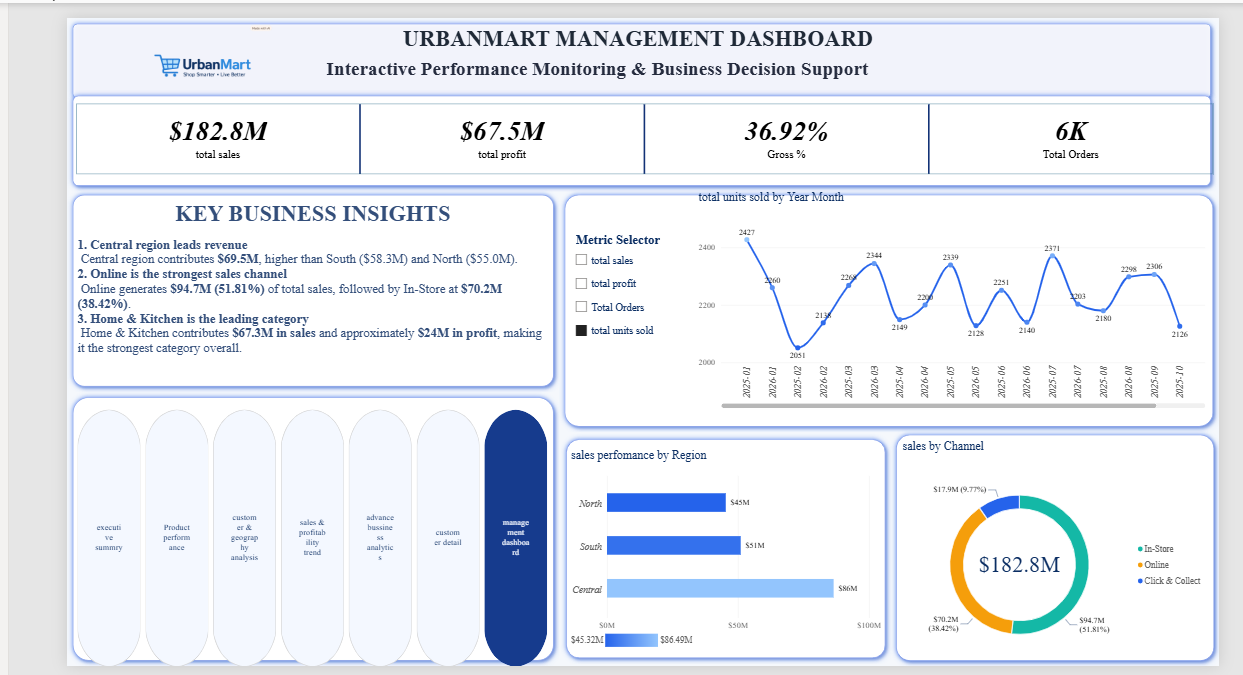

The dashboard page shown, as its layout file describes it:
{"tool":"powerbi","page":{"name":"management dashboard","canvas":[1920,1080],"ordinal":6},"visuals":[{"type":"shape","box":[0,0,1915.9,143.2],"z":0},{"type":"textbox","box":[506.1,12.2,888.7,56.8],"z":0,"group":"g2"},{"type":"shape","box":[0,119.3,1915.9,169.4],"z":0,"group":"g1"},{"type":"textbox","box":[431.7,63.8,987.8,46],"z":1000,"group":"g2"},{"type":"group","id":"g1","title":"Group 1","box":[0,119.3,1915.9,169.4],"z":1000},{"type":"cardVisual","fields":{"Data":["kpis.total net sales","kpis.total profit","kpis.Gross margin%","kpis.Total Orders"]},"box":[15.9,142.6,1897.4,118.3],"z":1000,"group":"g1"},{"type":"shape","box":[820.8,283.9,1099.9,405.6],"z":2000},{"type":"group","id":"g2","title":"Group 2","box":[431.7,12.2,987.8,97.6],"z":3000},{"type":"lineChart","fields":{"Category":["DimDate.Year Month"],"Y":["kpis.total units sold"]},"box":[1052.2,288.7,844.6,362.7],"z":4000},{"type":"slicer","fields":{"Values":["Metric Selector.Metric Selector"]},"box":[839.8,357.9,193.3,221.9],"z":5000},{"type":"shape","box":[0,283.9,820.8,338.8],"z":6000},{"type":"shape","box":[1371.9,684.8,548.8,396.1],"z":7000},{"type":"shape","box":[823.1,691.9,551.1,384.1],"z":8000},{"type":"clusteredBarChart","title":"sales perfomance by Region","fields":{"Category":["Dim_Store.Region"],"Y":["kpis.total sales"]},"box":[839.8,718.2,517.7,336.4],"z":9000},{"type":"donutChart","title":" sales by Channel","fields":{"Category":["Fact_Sales.Channel"],"Y":["kpis.total sales"]},"box":[1393.4,701.5,505.8,379.4],"z":10000},{"type":"textbox","box":[16.7,305.4,785,317.3],"z":11000},{"type":"shape","box":[0,622.7,820.8,458.1],"z":12000},{"type":"pageNavigator","box":[16.7,651.4,785,429.5],"z":13000},{"type":"image","box":[9.5,9.5,434.2,155.1],"z":13001}]}

Visuals, with their boxes on the page's 1920x1080 design canvas (x1, y1, x2, y2). These are canvas units, not pixel positions in the 1243x675 screenshot, which may show the page scaled, cropped or inside an application window:
shape: box=[0, 0, 1916, 143]
textbox: box=[506, 12, 1395, 69]
shape: box=[0, 119, 1916, 289]
textbox: box=[432, 64, 1420, 110]
"Group 1" group: box=[0, 119, 1916, 289]
cardVisual - kpis.total net sales x kpis.total profit: box=[16, 143, 1913, 261]
shape: box=[821, 284, 1921, 690]
"Group 2" group: box=[432, 12, 1420, 110]
lineChart - DimDate.Year Month x kpis.total units sold: box=[1052, 289, 1897, 651]
slicer - Metric Selector.Metric Selector: box=[840, 358, 1033, 580]
shape: box=[0, 284, 821, 623]
shape: box=[1372, 685, 1921, 1081]
shape: box=[823, 692, 1374, 1076]
"sales perfomance by Region" clusteredBarChart: box=[840, 718, 1358, 1055]
" sales by Channel" donutChart: box=[1393, 702, 1899, 1081]
textbox: box=[17, 305, 802, 623]
shape: box=[0, 623, 821, 1081]
pageNavigator: box=[17, 651, 802, 1081]
image: box=[10, 10, 444, 165]
